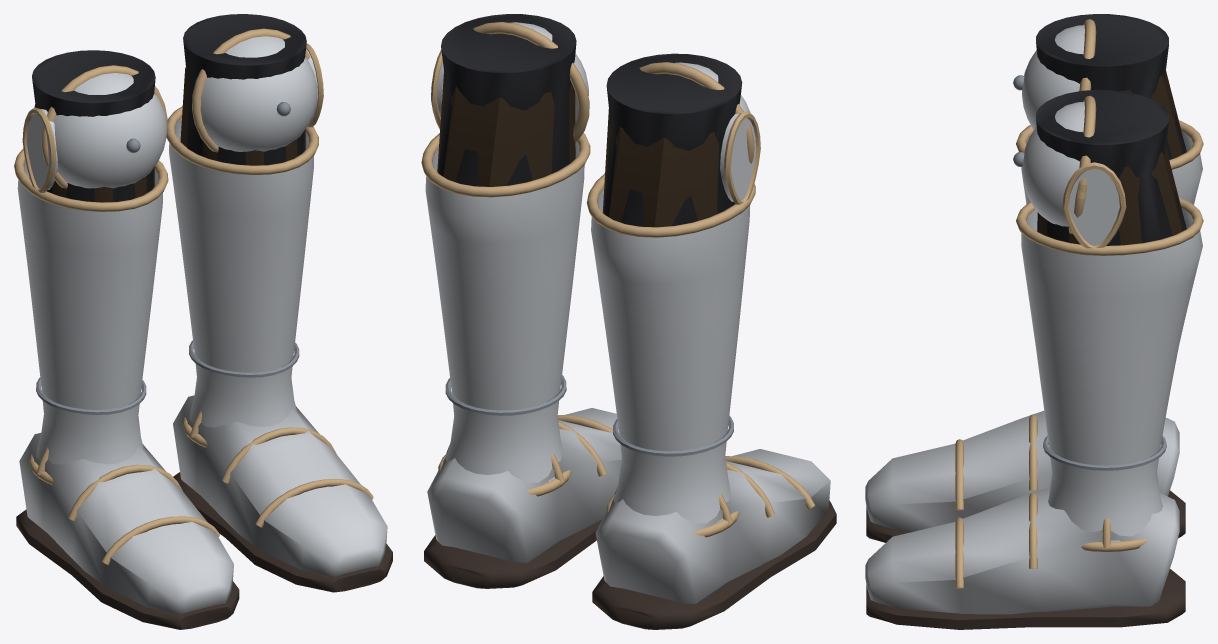
File: f_ironplate.glb
The picture shows the model from 3 angles, left to right: view 1: azimuth 30°, elevation 25°; view 2: azimuth 150°, elevation 25°; view 3: azimuth 270°, elevation 25°; orthographic projection. The views are drawn at different scales.
Parts seen in each view (by area): view 1: LegR_Boot, LegL_Boot, LegR_BootFoot, LegL_BootFoot, LegL_Shin, LegR_Shin; view 2: LegR_Boot, LegL_Boot, LegR_BootFoot, LegL_BootFoot, LegL_Shin, LegR_Shin; view 3: LegL_Boot, LegL_BootFoot, LegR_BootFoot, LegR_Boot, LegL_Shin, LegR_Shin.
Boxes of the visible parts, x1,y1,x2,y2 form: LegR_Boot: (14, 50, 168, 484); LegL_Boot: (166, 14, 323, 447); LegR_BootFoot: (16, 433, 239, 629); LegL_BootFoot: (173, 395, 392, 592); LegL_Shin: (180, 66, 305, 165); LegR_Shin: (29, 103, 154, 202); LegR_Boot: (586, 53, 760, 537); LegL_Boot: (421, 14, 590, 496); LegR_BootFoot: (592, 449, 836, 629); LegL_BootFoot: (424, 408, 621, 588); LegL_Shin: (437, 71, 575, 186); LegR_Shin: (602, 109, 719, 227); LegL_Boot: (1013, 89, 1203, 551); LegL_BootFoot: (865, 487, 1185, 629); LegR_BootFoot: (865, 410, 1185, 542); LegR_Boot: (1013, 14, 1203, 204); LegL_Shin: (1039, 148, 1186, 245); LegR_Shin: (1123, 71, 1186, 158).
Bounding box in the file's own units: 0.3511 × 0.5832 × 0.3545.
